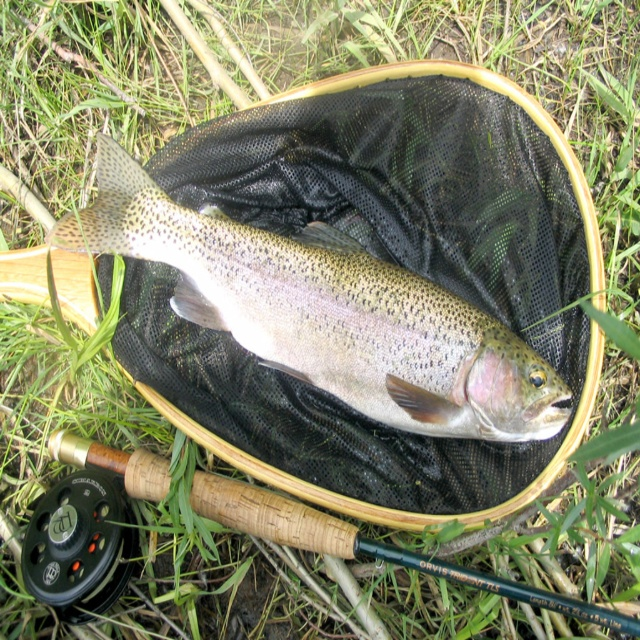Fish: (43, 131, 573, 441)
